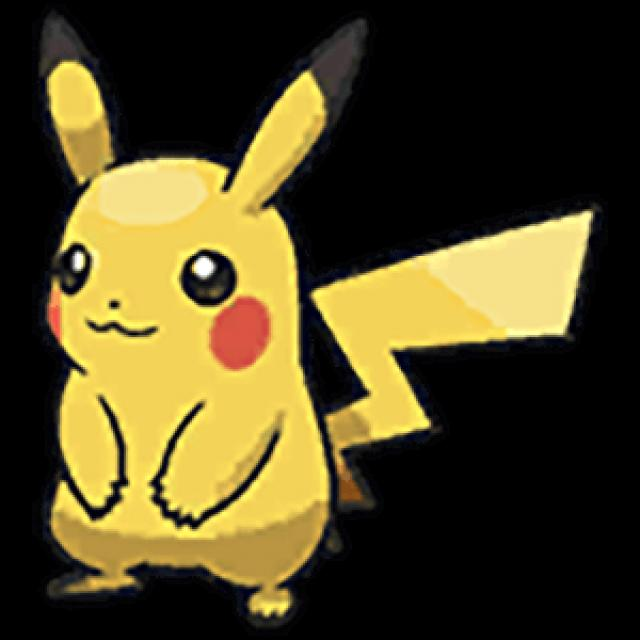Pikachu: (15, 0, 626, 640)
